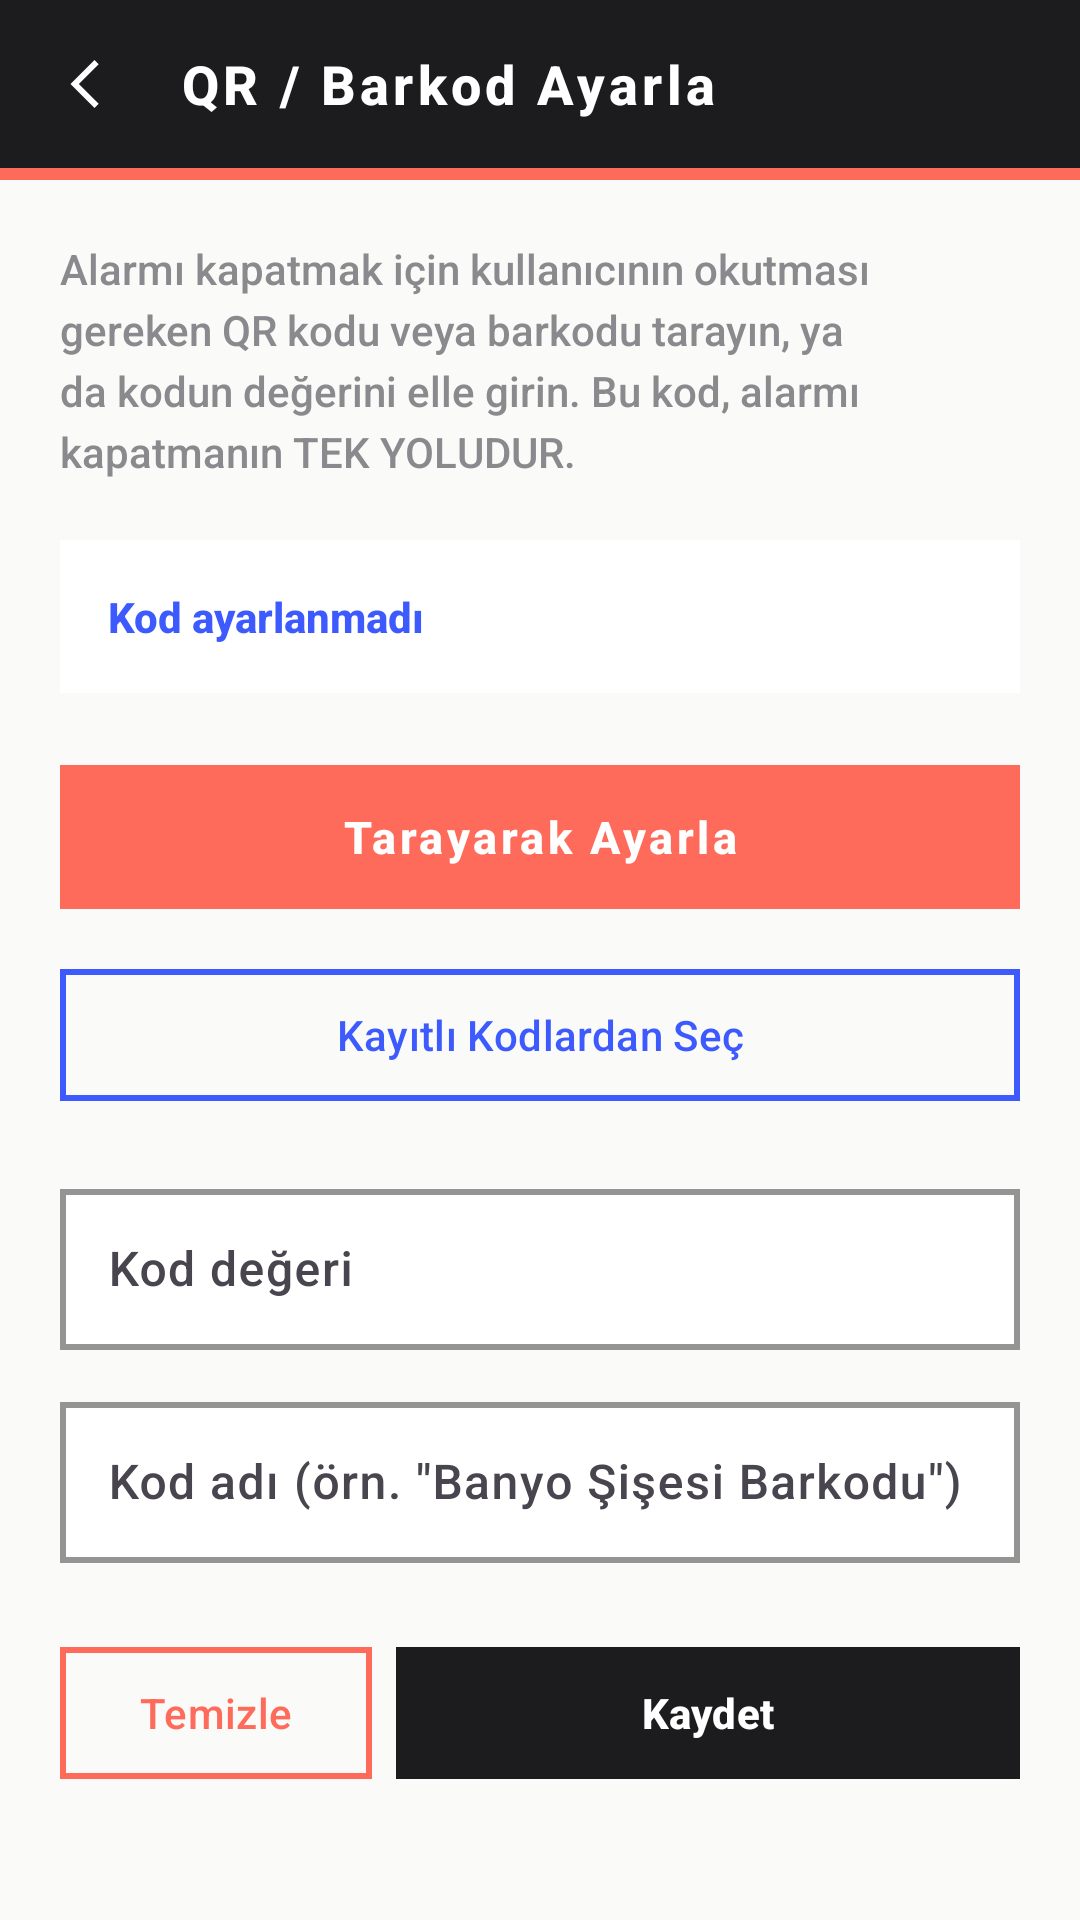

Screen size 1080px x 1920px. Icon name, then its box in pixels as (x1, y1, x2, y2):
Back: (70, 60, 99, 108)
